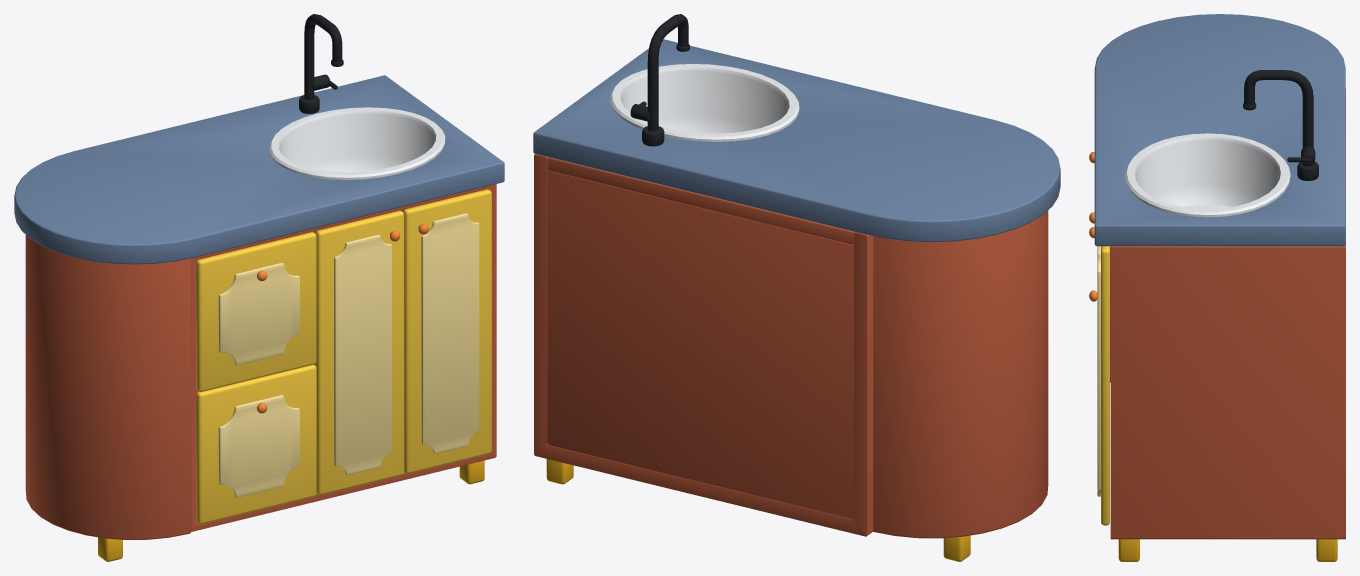
File: armario_cozinha_pia_ponta_curva_classica.glb
3 views of the same model, side by side, from view 1: azimuth 30°, elevation 25°; view 2: azimuth 150°, elevation 25°; view 3: azimuth 270°, elevation 25° (orthographic). The views are drawn at different scales.
Parts seen in each view (by area): view 1: armario_cozinha_pia_ponta_curva_classica, porta_1, porta_2, gaveta_1, gaveta_2; view 2: armario_cozinha_pia_ponta_curva_classica; view 3: armario_cozinha_pia_ponta_curva_classica, porta_2.
Part boxes in pixels (x1,y1,x2,y2): armario_cozinha_pia_ponta_curva_classica: (14, 14, 504, 561); porta_1: (315, 210, 404, 494); porta_2: (403, 189, 491, 473); gaveta_1: (196, 232, 316, 391); gaveta_2: (196, 364, 316, 524); armario_cozinha_pia_ponta_curva_classica: (533, 14, 1060, 561); armario_cozinha_pia_ponta_curva_classica: (1094, 14, 1345, 561); porta_2: (1089, 227, 1109, 525).
Size of the model in its own units: 1.2 by 1.18 by 0.6131.
Materials: 1 (1 with a texture image).
